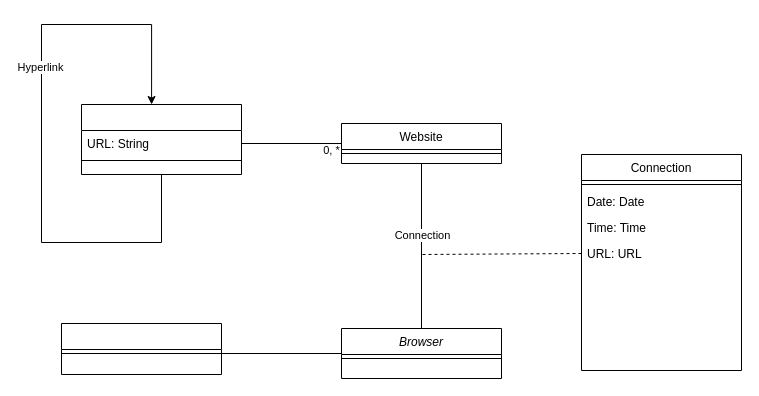
The diagram is 759 pixels wide and 396 high, and some of its shapes have lost their labels. Each missing label, with the box of its shape:
User: (60, 322, 222, 374)
WebPage: (80, 104, 242, 174)
